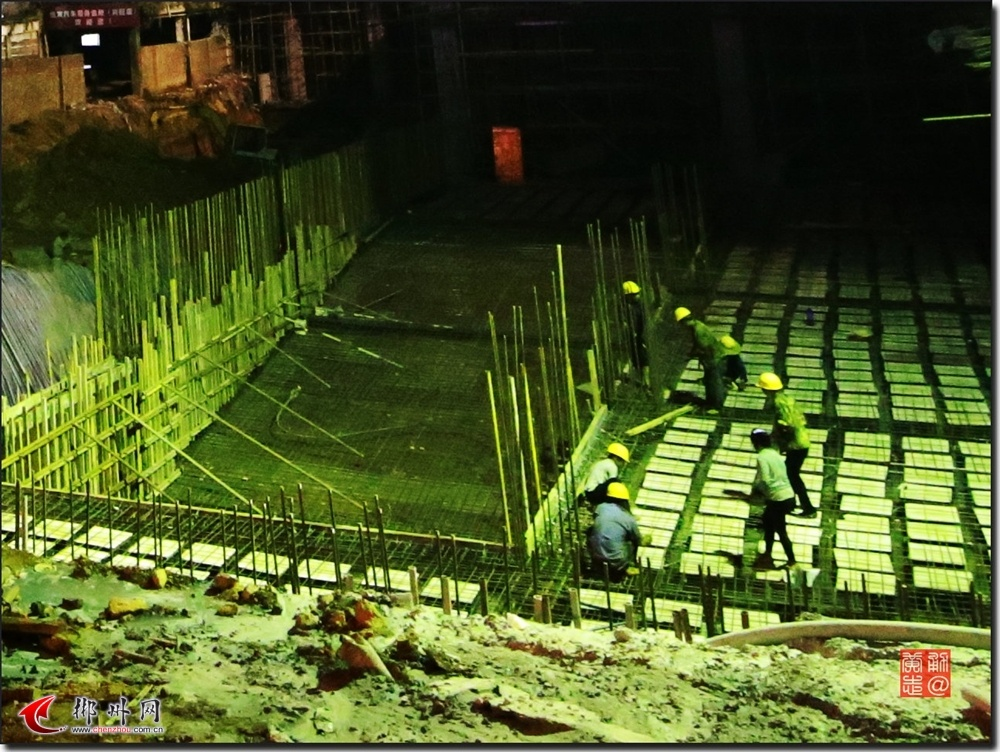yellow: (604, 478, 630, 505), (758, 369, 781, 398), (604, 443, 629, 469), (621, 279, 641, 304), (672, 306, 691, 325)
